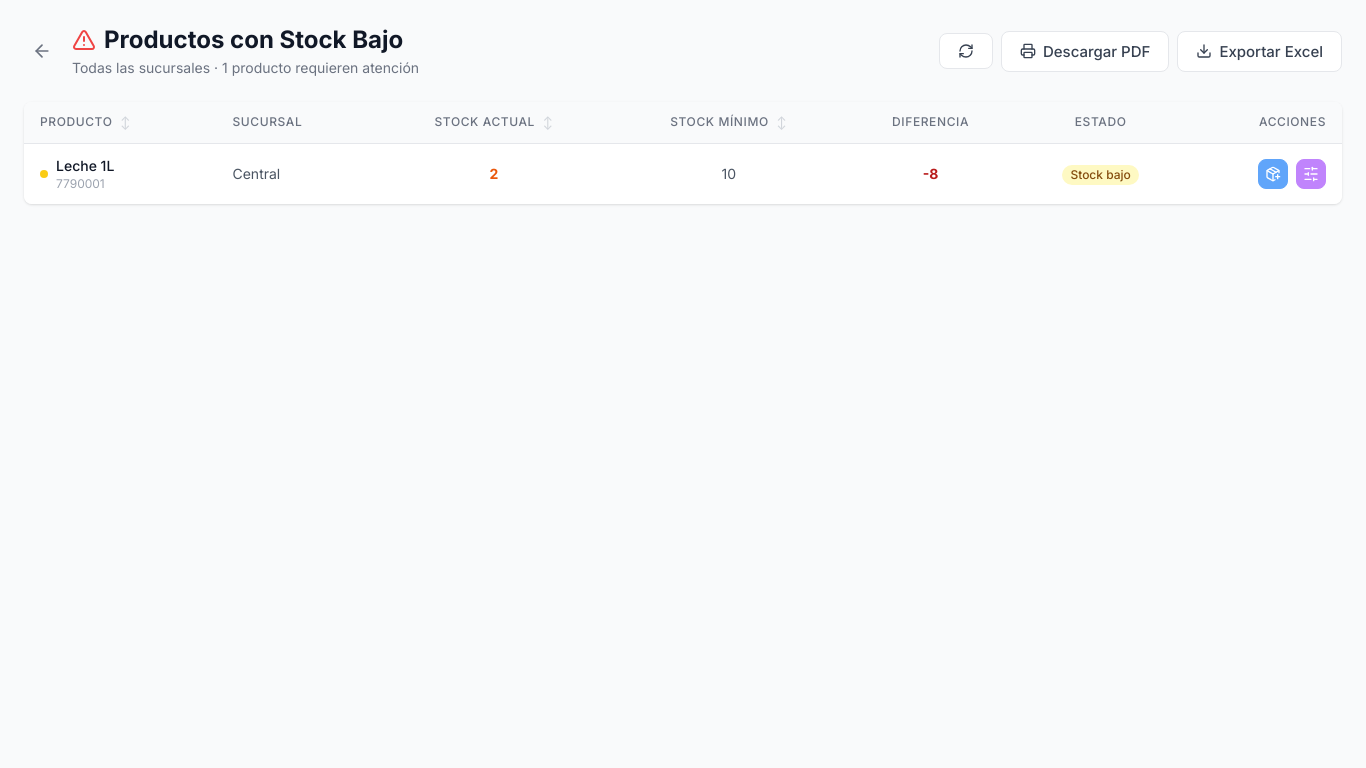
Test: StockAlerts › cierra el modal al hacer click en "Cancelar"
The width and height of the screenshot is (1366, 768).
Expected: the text "Leche 1L" is shown, [56, 156, 114, 176]
What coordinates should you click on to do the following:
click the button titled "Agregar stock"
I would click on:
 (1273, 174)
Its box is [1258, 159, 1288, 189].
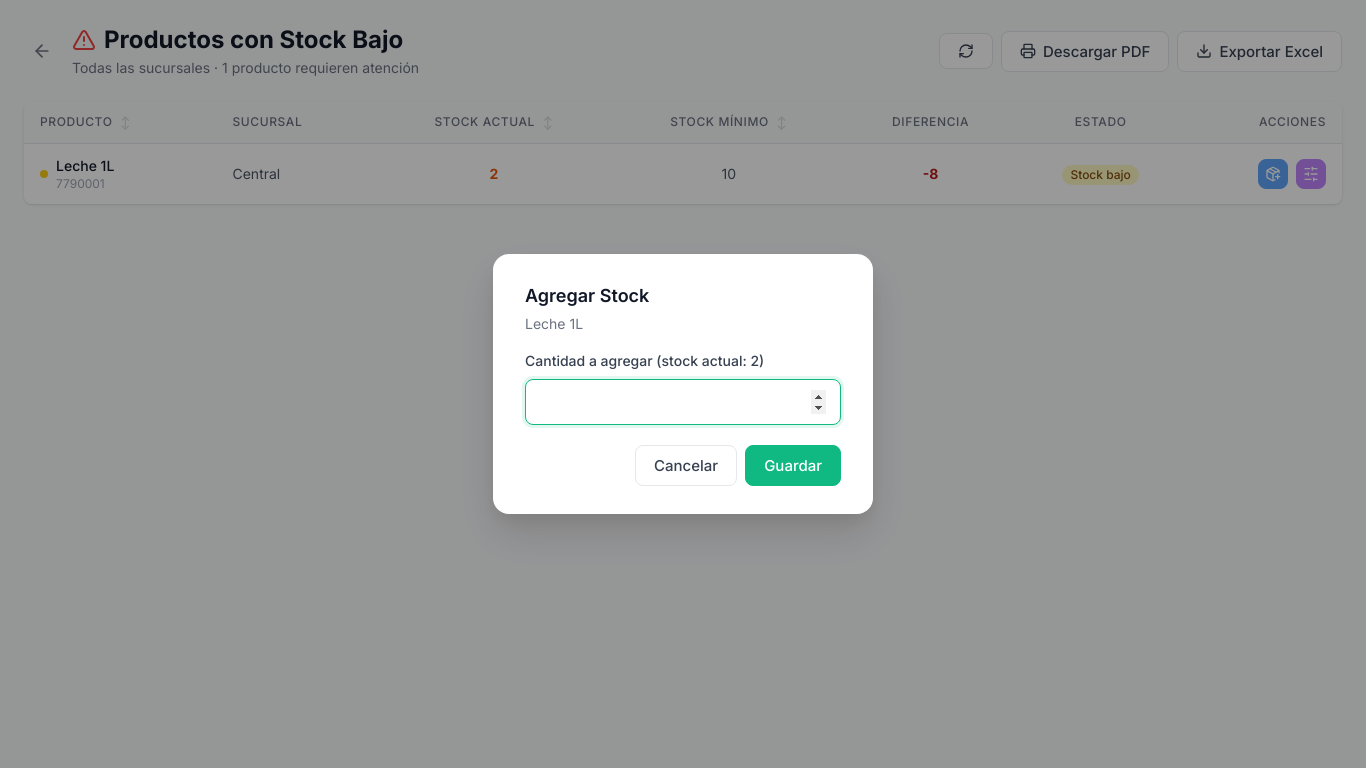
Expected: the heading "Agregar Stock" is shown, [525, 285, 649, 306]
What coordinates should you click on to do the following:
click the button "Cancelar"
I would click on:
 (686, 465)
Its box is [635, 445, 737, 486].
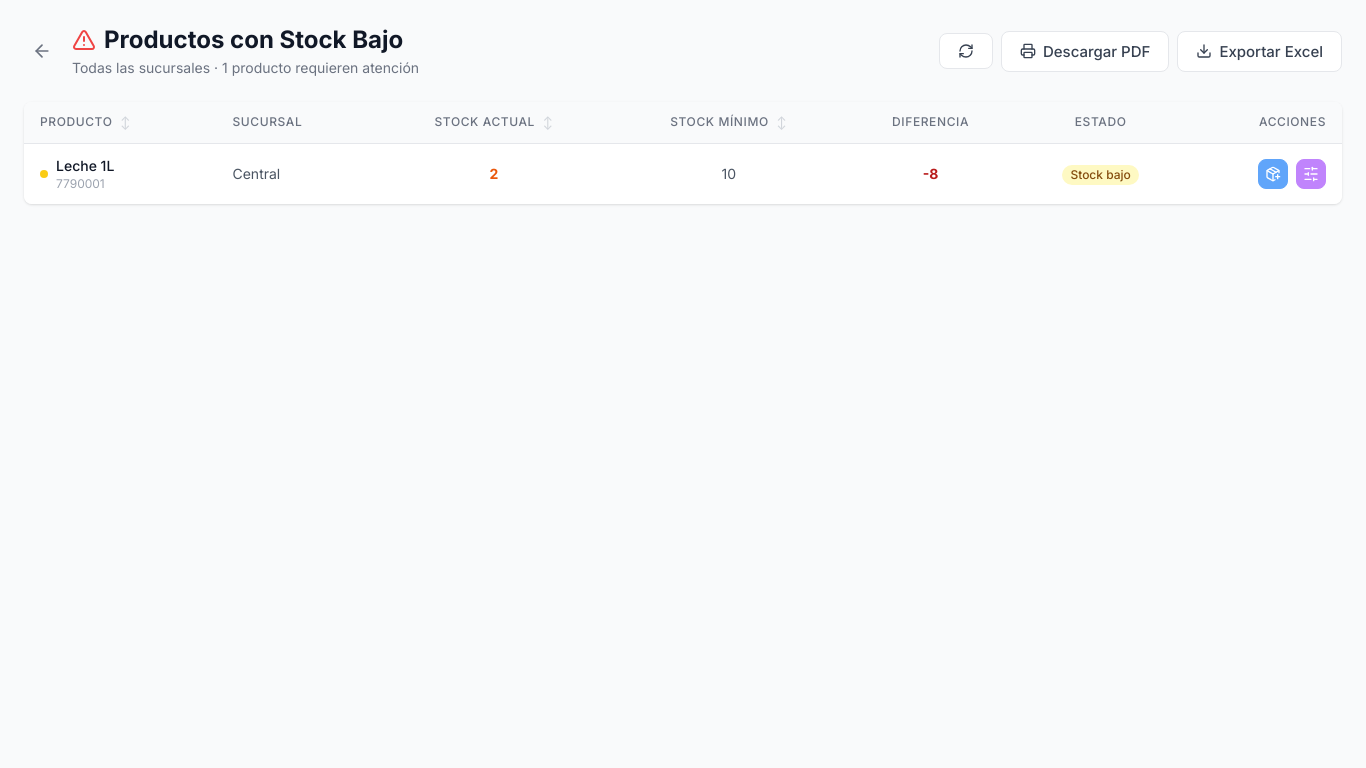
Expected: the heading "Agregar Stock" is gone
